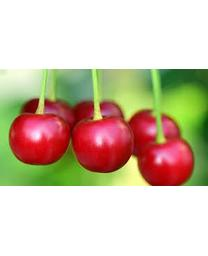cherry: (71, 117, 134, 173), (9, 112, 70, 167), (137, 138, 195, 184)
